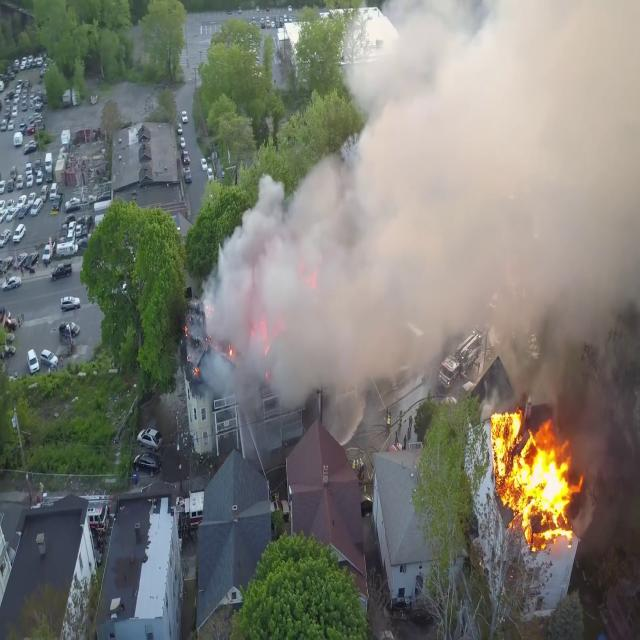fire: (492, 392, 579, 528)
smoke: (310, 214, 436, 365)
